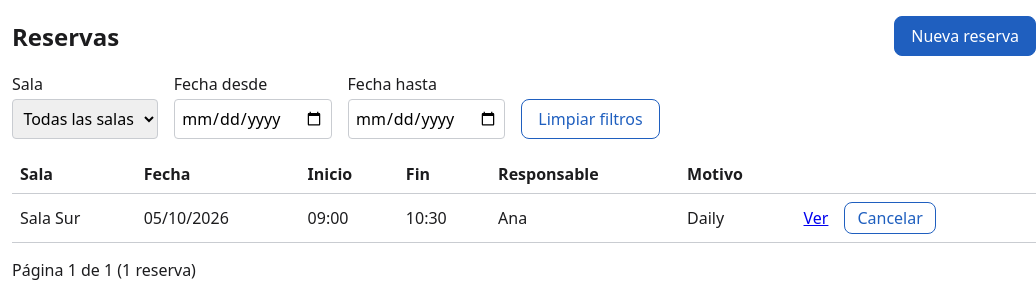
Test: ReservaListComponent › rango de fechas y selector de sala › «Limpiar filtros» vacía también las fechas en el DOM
Step 1. Type "2026-10-05" into the date field with id "filtro-fecha-desde" → {"x": 253, "y": 119}, box [174,99,332,139]
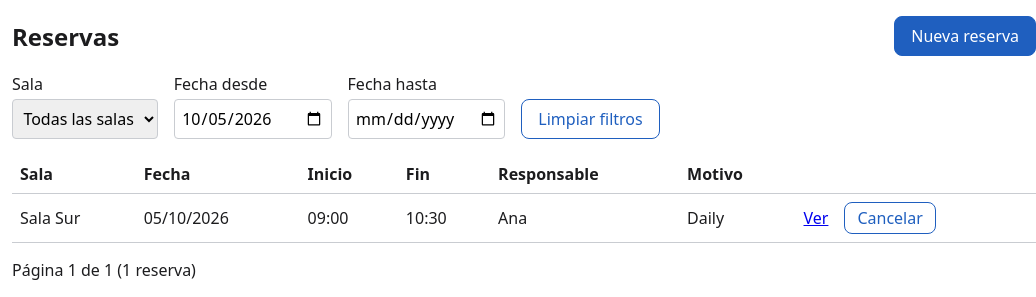
Step 2. Type "2026-10-07" into the date field with id "filtro-fecha-hasta" → {"x": 426, "y": 119}, box [348,99,505,139]
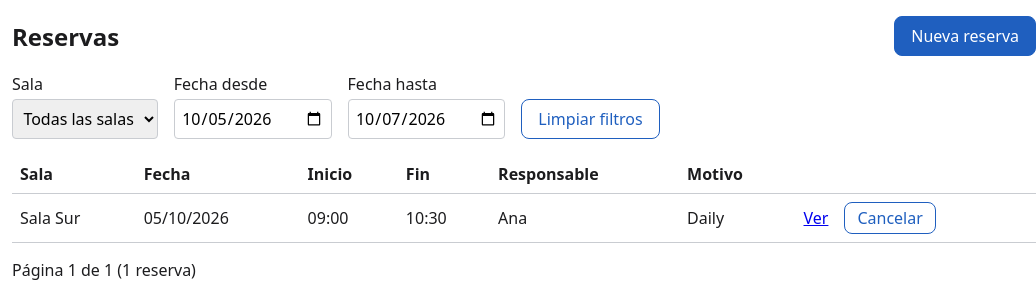
Step 3. Click the button "Limpiar filtros" → {"x": 590, "y": 119}, box [521,99,660,139]
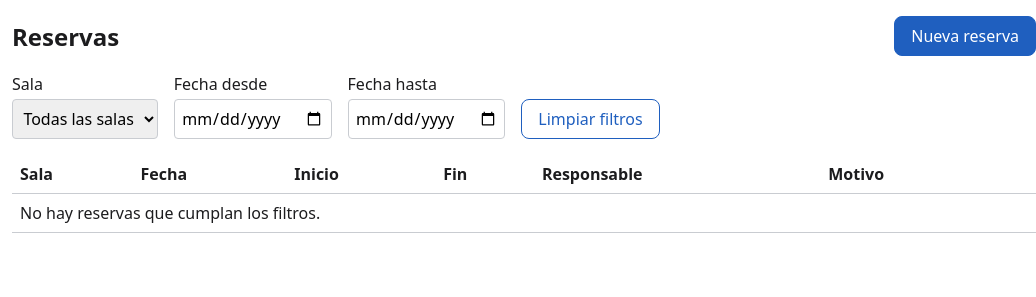
expect the date field with id "filtro-fecha-desde" is empty: met, box [174,99,332,139]
expect the date field with id "filtro-fecha-hasta" is empty: met, box [348,99,505,139]
